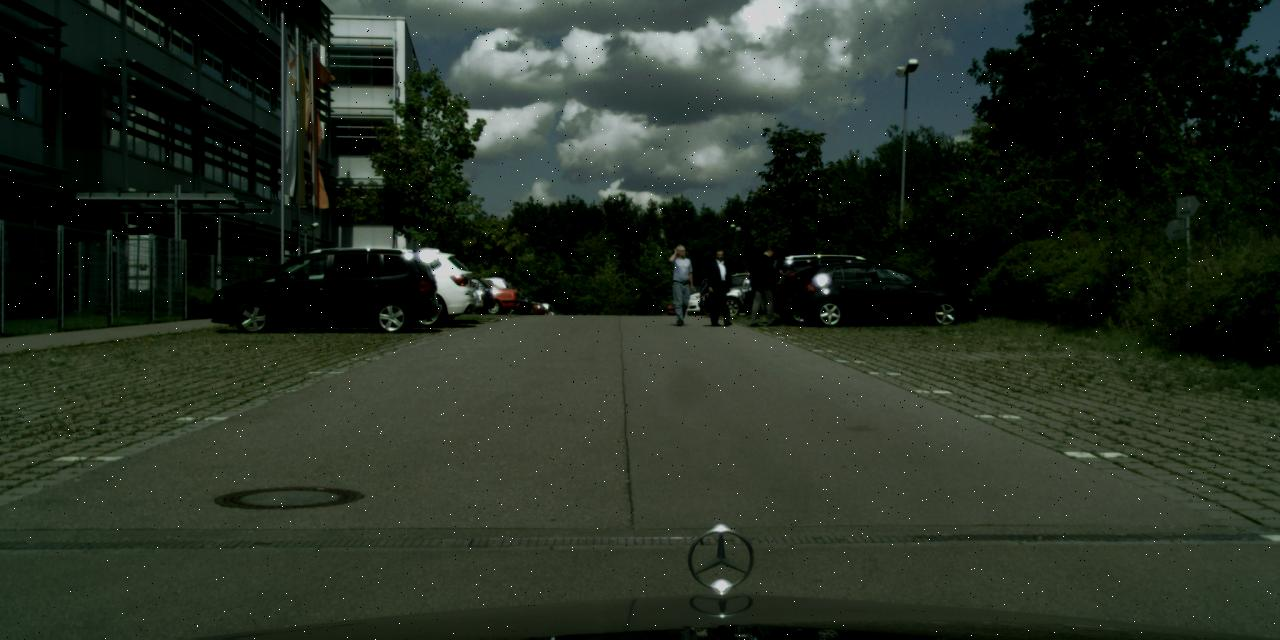ped: (749, 245, 782, 328), (664, 244, 696, 324), (705, 250, 735, 324)
